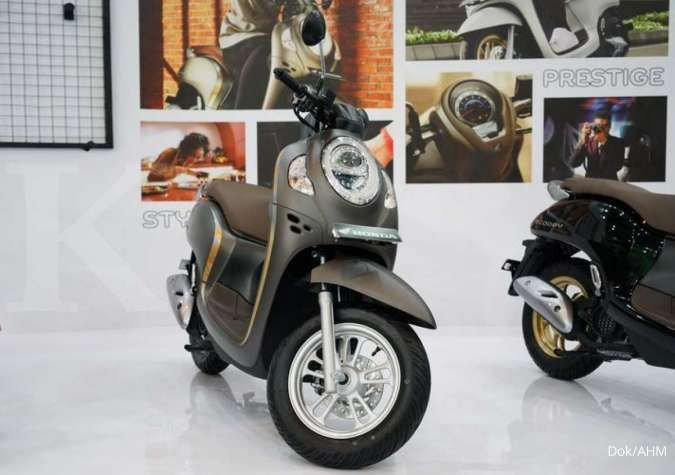motor: (176, 61, 464, 463)
